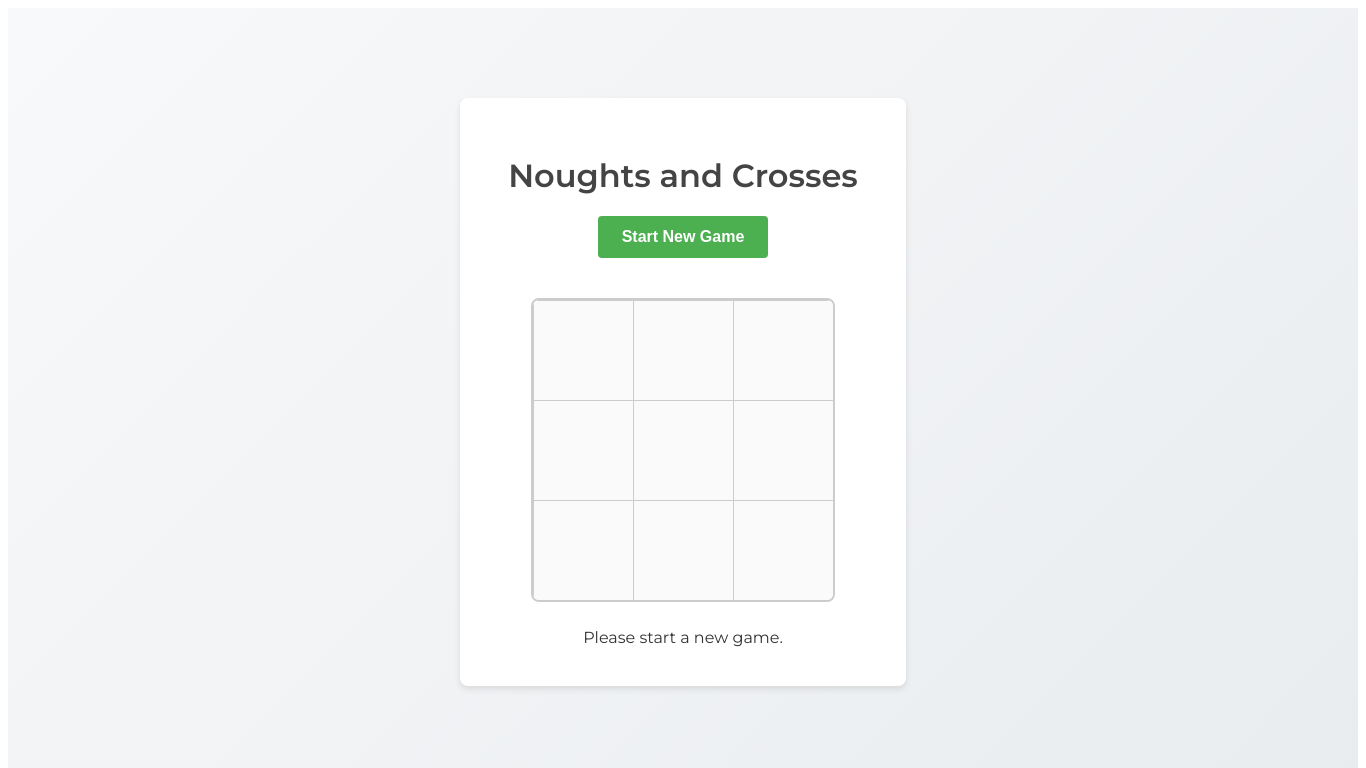
Test: App component › displays winner when data.winner is returned
Note: Start New Game
Click the button "Start New Game" at x=683, y=237, box [598,216,768,258]
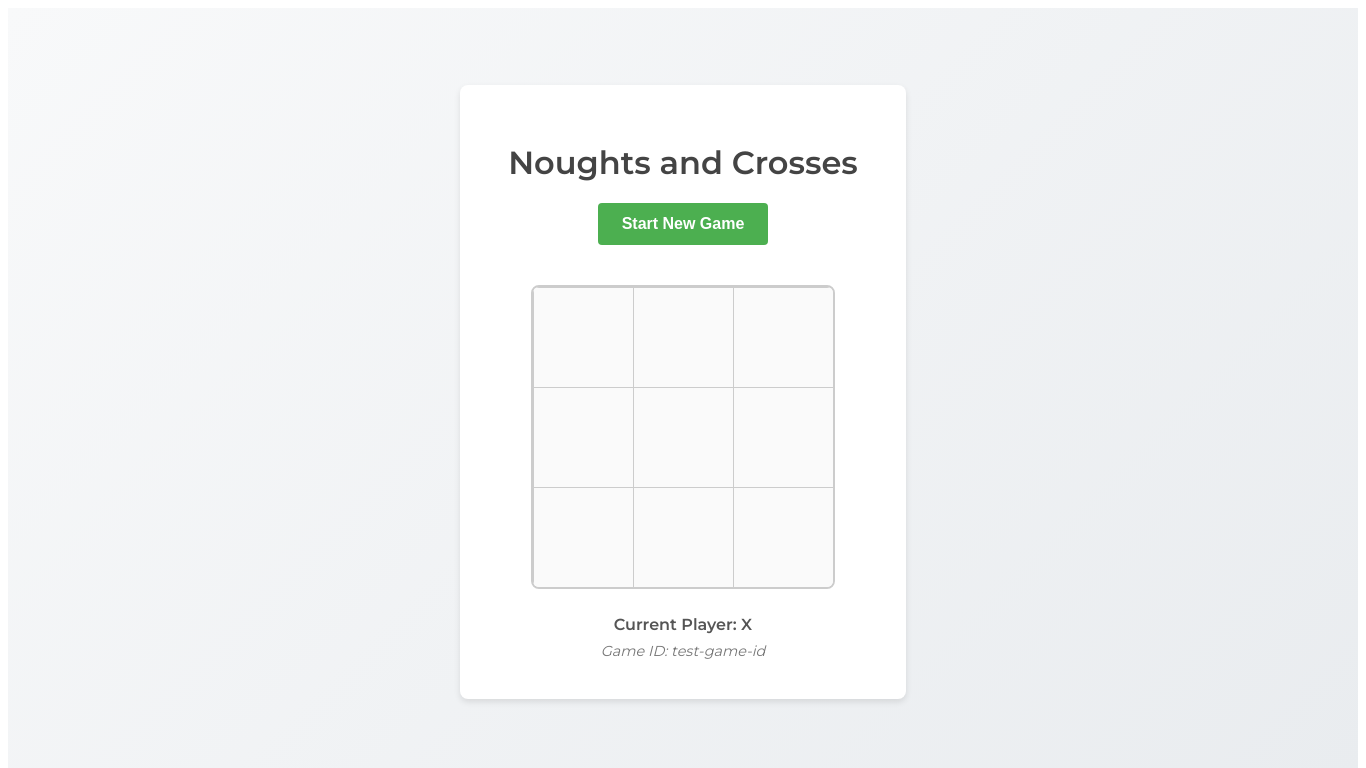
Expected: the text "Game ID: test-game-id" is shown, [601,642,765,660]
Click the element with test id "square-0" at x=584, y=338, box [533,287,635,389]
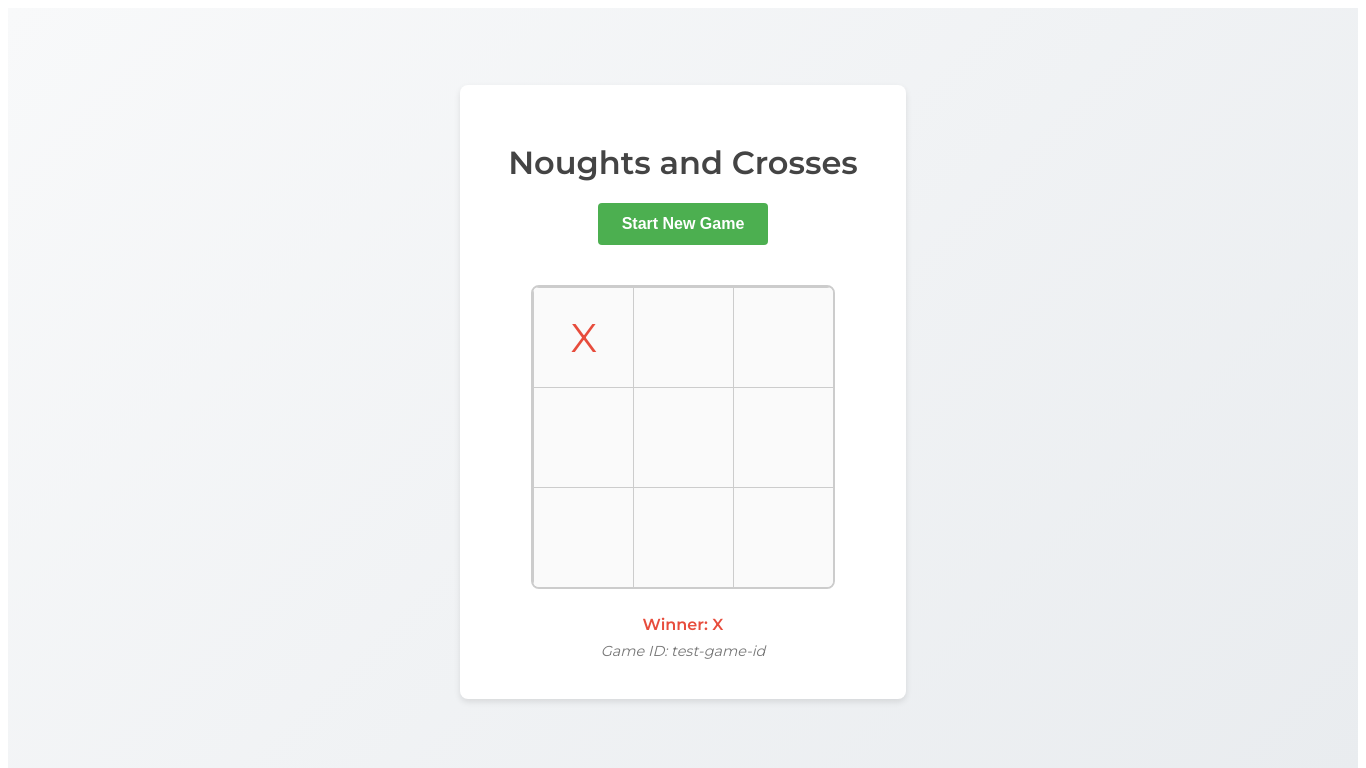
Expected: the text "Winner: X" is shown, [643,615,723,634]
Expected: the text "Current Player:" is gone
